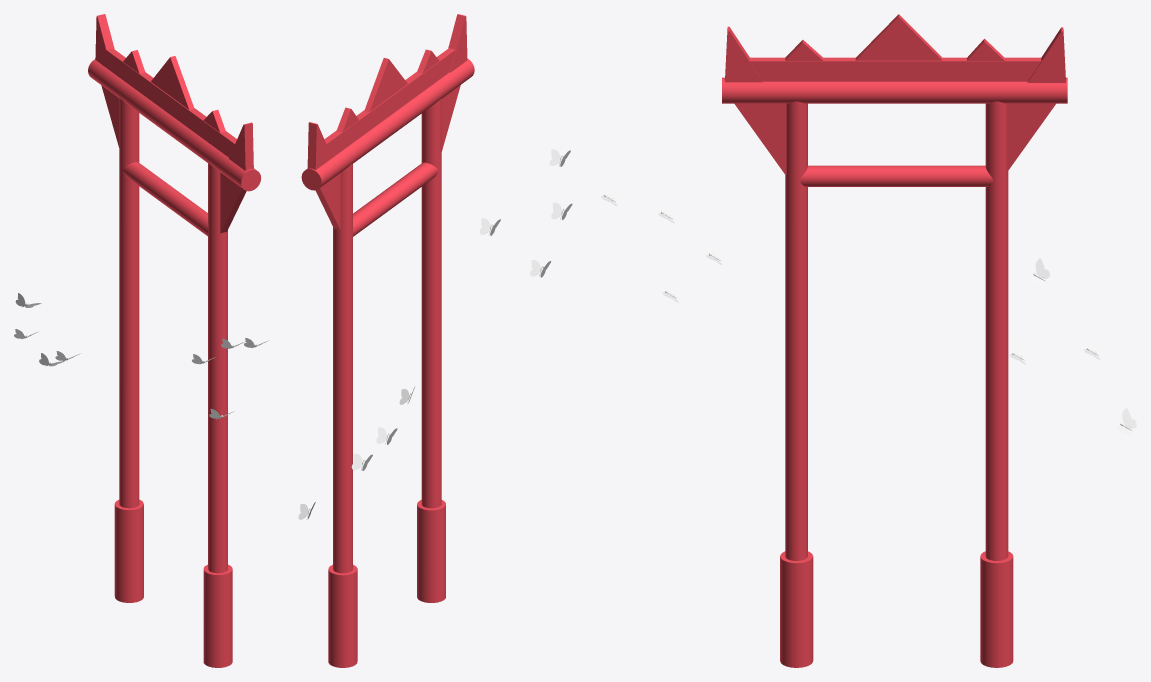
Rendered from swing pole.glb.
3 views of the same model, side by side, from view 1: azimuth 30°, elevation 25°; view 2: azimuth 150°, elevation 25°; view 3: azimuth 270°, elevation 25° (orthographic). The views are drawn at different scales.
Visible parts, largest first — view 1: pasted__pCylinder1, pasted__pCylinder7, pasted__pCylinder6, pasted__pCylinder3, pasted__pCylinder8, pasted__pCube7, pasted__pCylinder5, pasted__pCube10, pasted__pCube3, pasted__pCube6, pasted__pCube5, pasted__pCube4; view 2: pasted__pCylinder7, pasted__pCylinder1, pasted__pCylinder6, pasted__pCylinder3, pasted__pCube7, pasted__pCylinder8, pasted__pCylinder5, pasted__pCube10, pasted__pCube4, pasted__pCube6, pasted__pCube5, pasted__pCube3; view 3: pasted__pCylinder1, pasted__pCylinder7, pasted__pCylinder6, pasted__pCube7, pasted__pCylinder5, pasted__pCylinder8, pasted__pCylinder3, pasted__pCube10, pasted__pCube3, pasted__pCube4, pasted__pCube6, pasted__pCube5.
Boxes of the visible parts, <box> form: pasted__pCylinder1: <box>119,98,139,508</box>; pasted__pCylinder7: <box>208,163,227,573</box>; pasted__pCylinder6: <box>88,59,261,191</box>; pasted__pCylinder3: <box>114,499,143,602</box>; pasted__pCylinder8: <box>203,564,232,667</box>; pasted__pCube7: <box>101,46,236,157</box>; pasted__pCylinder5: <box>122,162,208,236</box>; pasted__pCube10: <box>151,56,194,109</box>; pasted__pCube3: <box>220,172,246,233</box>; pasted__pCube6: <box>229,122,253,170</box>; pasted__pCube5: <box>95,14,114,63</box>; pasted__pCube4: <box>101,85,119,147</box>; pasted__pCylinder7: <box>421,98,441,508</box>; pasted__pCylinder1: <box>333,163,352,573</box>; pasted__pCylinder6: <box>301,58,474,190</box>; pasted__pCylinder3: <box>328,564,357,667</box>; pasted__pCube7: <box>321,48,455,165</box>; pasted__pCylinder8: <box>417,500,445,602</box>; pasted__pCylinder5: <box>352,162,437,236</box>; pasted__pCube10: <box>364,58,407,111</box>; pasted__pCube4: <box>315,173,340,230</box>; pasted__pCube6: <box>448,14,467,72</box>; pasted__pCube5: <box>307,122,326,169</box>; pasted__pCube3: <box>441,85,460,151</box>; pasted__pCylinder1: <box>985,101,1008,560</box>; pasted__pCylinder7: <box>785,101,807,560</box>; pasted__pCylinder6: <box>722,77,1067,103</box>; pasted__pCube7: <box>749,57,1041,81</box>; pasted__pCylinder5: <box>800,165,992,186</box>; pasted__pCylinder8: <box>780,551,813,667</box>; pasted__pCylinder3: <box>980,551,1013,667</box>; pasted__pCube10: <box>855,14,942,60</box>; pasted__pCube3: <box>734,103,786,174</box>; pasted__pCube4: <box>1006,103,1055,172</box>; pasted__pCube6: <box>725,26,762,82</box>; pasted__pCube5: <box>1027,27,1065,82</box>.
Bounding box in the file's own units: 6.39 × 33.48 × 25.18.
